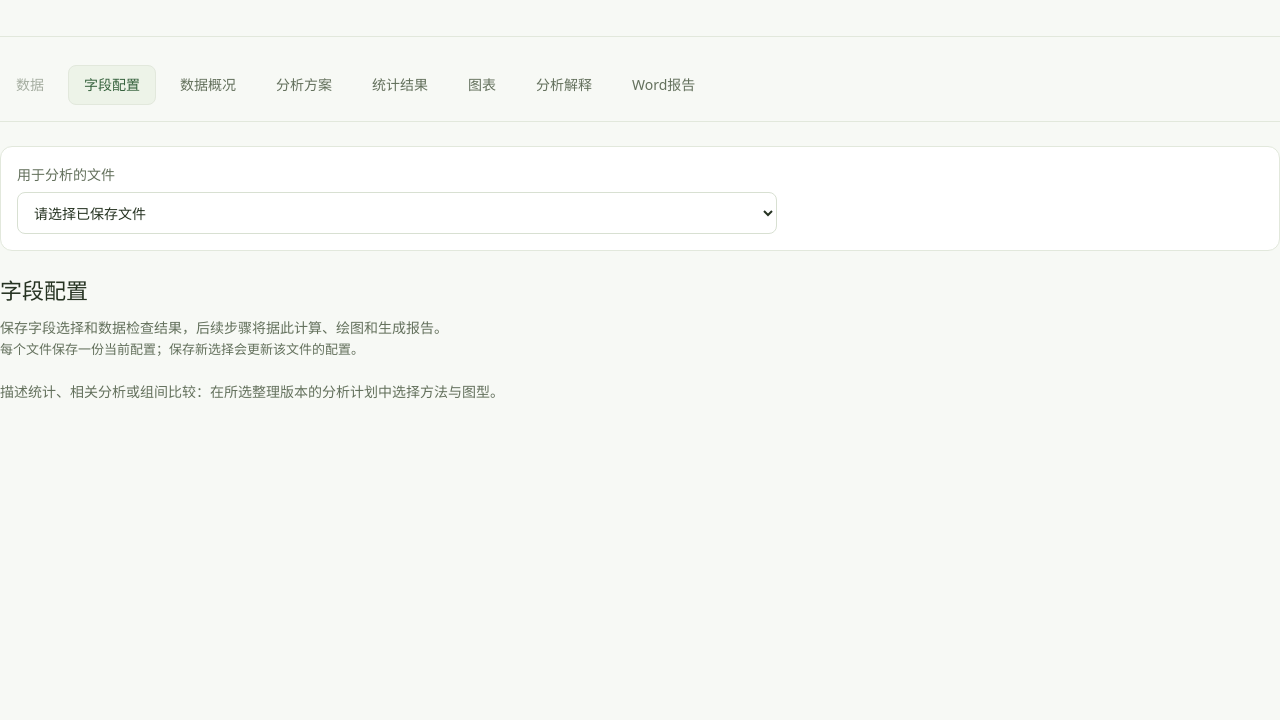
Test: a selected file without a dataset guides profile and plan back to explicit source selection
The width and height of the screenshot is (1280, 720).
Select "研究.xlsx · 2026/10/10 01:00:00" in the dropdown labelled "用于分析的文件" at (397, 213), box x1=17 y1=192 x2=777 y2=234
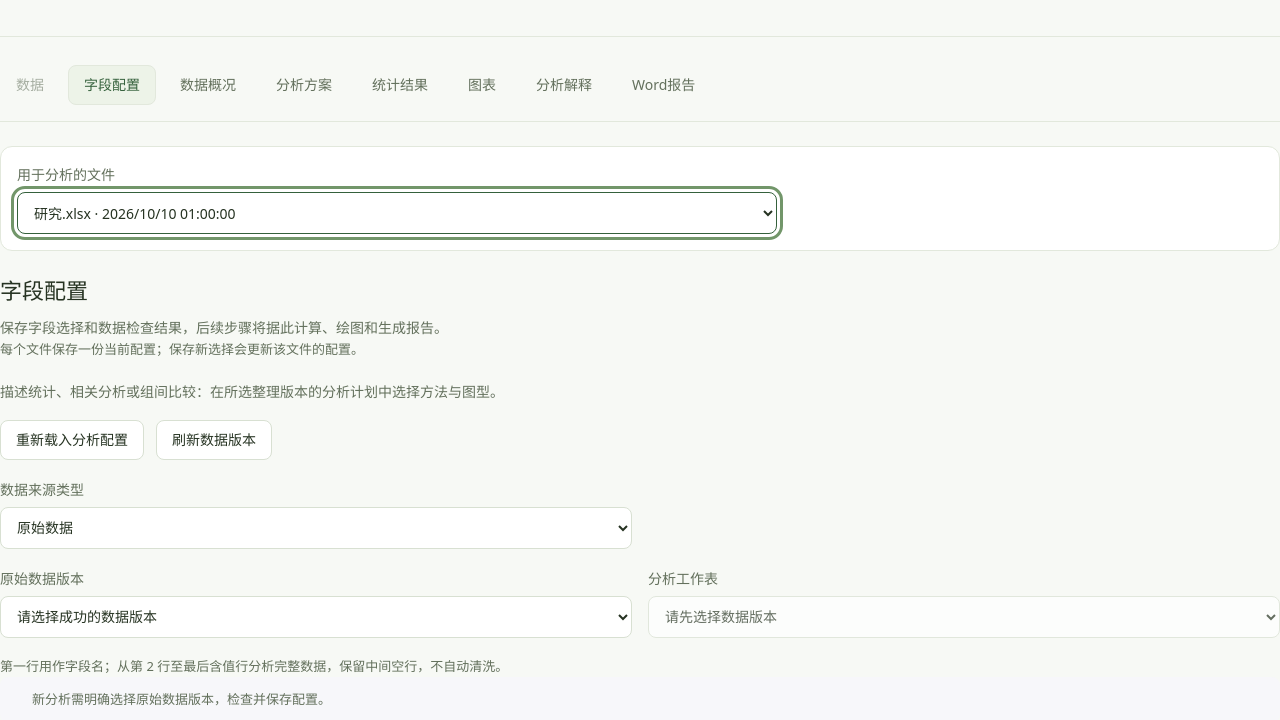
Click the button "数据概况" at (208, 85), box x1=164 y1=65 x2=252 y2=105
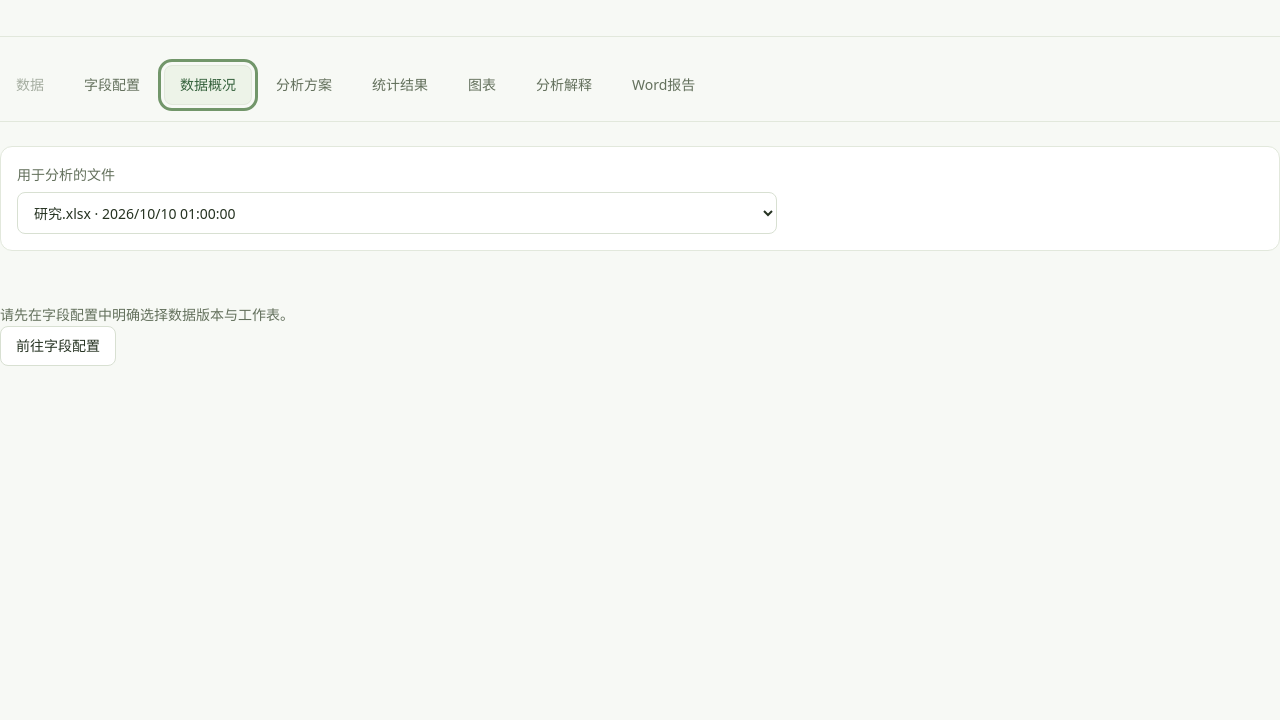
Expected: the text "请先在字段配置中明确选择数据版本与工作表。" is shown, x1=0 y1=305 x2=294 y2=324
Click the button "前往字段配置" at (58, 346), box x1=0 y1=326 x2=116 y2=366
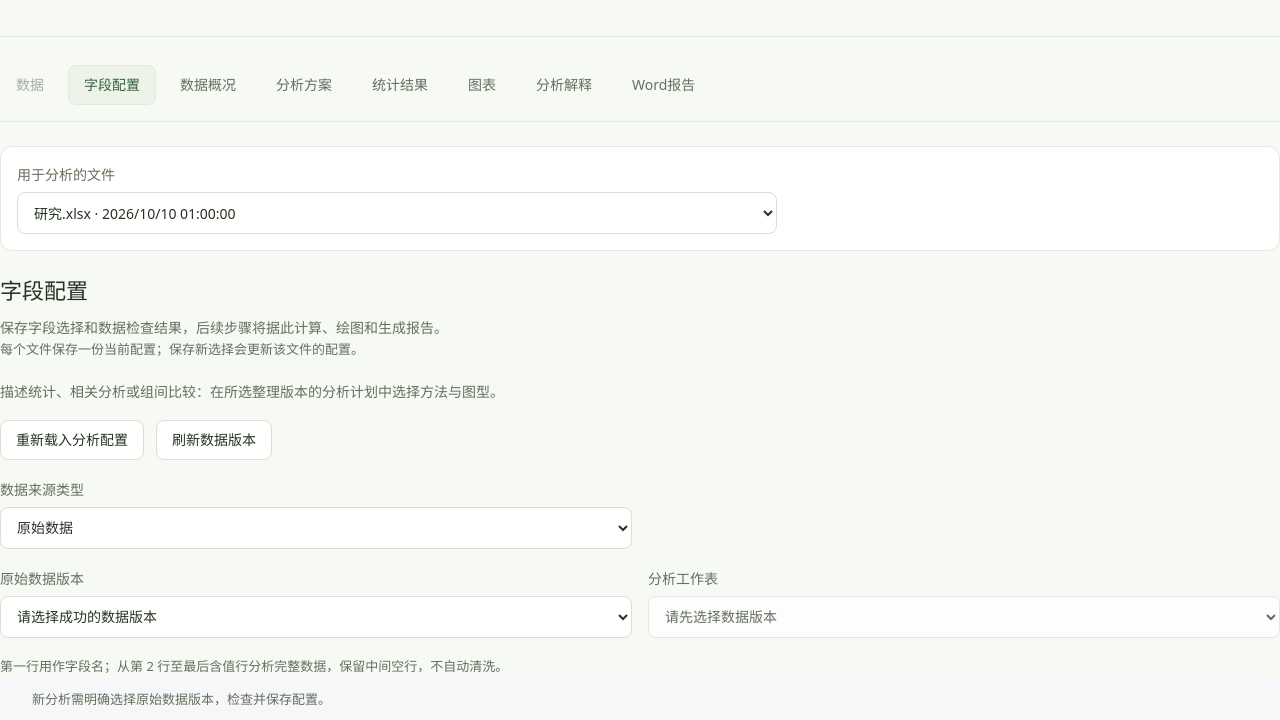
Expected: the dropdown labelled "原始数据版本" is shown, x1=0 y1=596 x2=632 y2=638
Click the button "分析方案" at (304, 85), box x1=260 y1=65 x2=348 y2=105
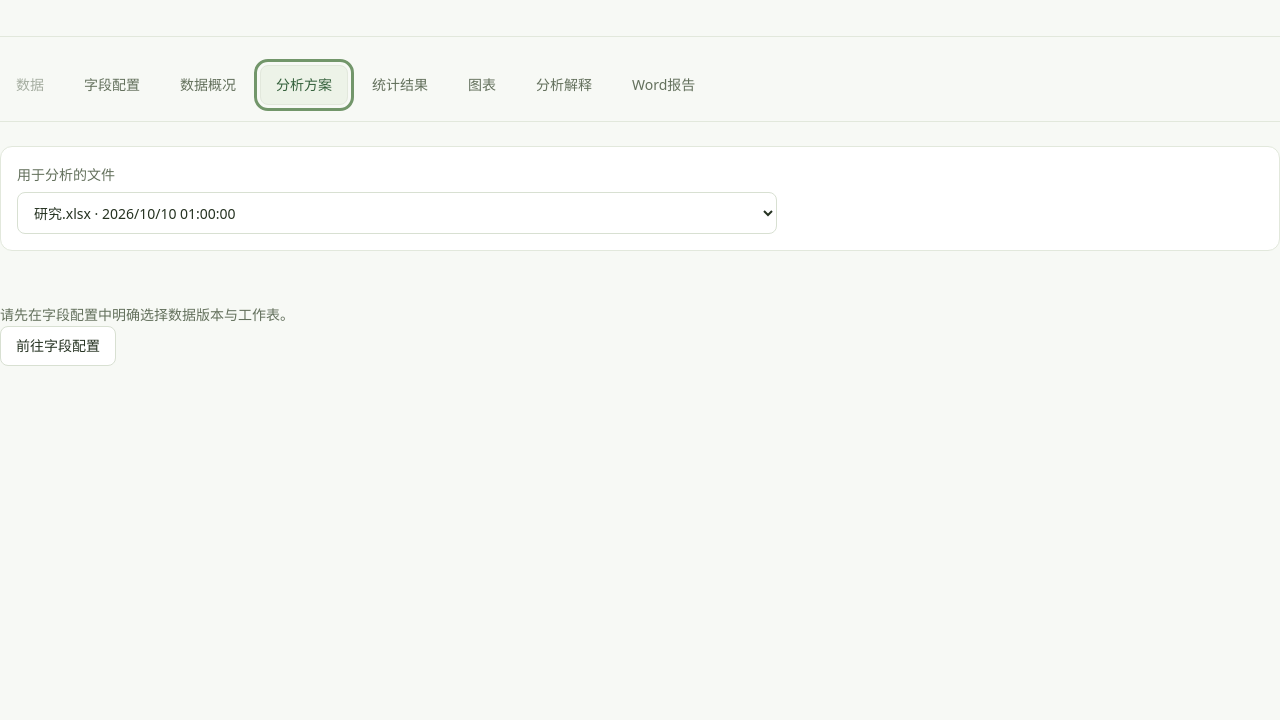
Expected: the button "前往字段配置" is shown, x1=0 y1=326 x2=116 y2=366
